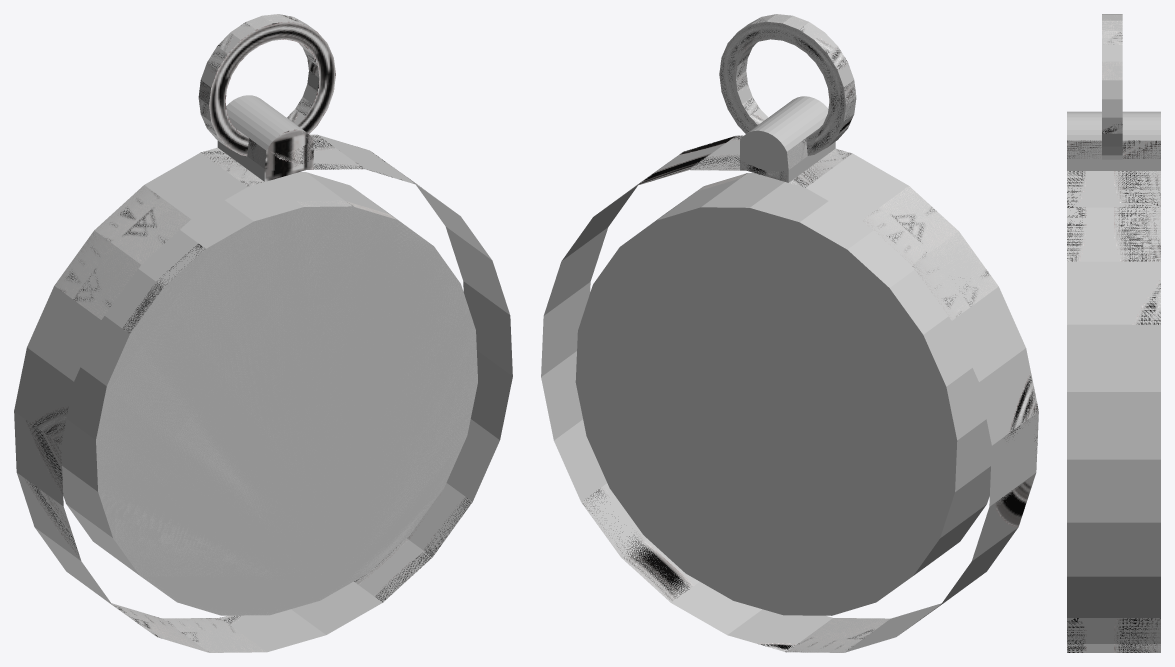
The model's file is Boussole2.fbx.
3 renders of one model, left to right at view 1: azimuth 30°, elevation 25°; view 2: azimuth 150°, elevation 25°; view 3: azimuth 270°, elevation 25°, orthographic.
Visible parts, largest first — view 1: ID73, SketchUp, ID49, ID112, ID128, ID104, ID88, ID136; view 2: ID49, SketchUp, ID104, ID136, ID57; view 3: SketchUp, ID104.
Boxes of the visible parts, x1=… form: ID73: x1=96, y1=206, x2=477, y2=615; SketchUp: x1=14, y1=14, x2=512, y2=652; ID49: x1=62, y1=172, x2=416, y2=569; ID112: x1=209, y1=21, x2=335, y2=155; ID128: x1=88, y1=200, x2=413, y2=575; ID104: x1=226, y1=95, x2=306, y2=150; ID88: x1=264, y1=129, x2=313, y2=181; ID136: x1=61, y1=419, x2=90, y2=485; ID49: x1=575, y1=178, x2=990, y2=615; SketchUp: x1=541, y1=14, x2=1038, y2=652; ID104: x1=748, y1=96, x2=828, y2=151; ID136: x1=955, y1=419, x2=991, y2=491; ID57: x1=740, y1=130, x2=788, y2=171; SketchUp: x1=1067, y1=14, x2=1160, y2=652; ID104: x1=1067, y1=111, x2=1160, y2=140.
Size of the model in its own units: 3.92 by 0.7087 by 5.07.
